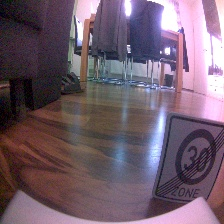dreisiger_zone_ende: (153, 107, 224, 206)
